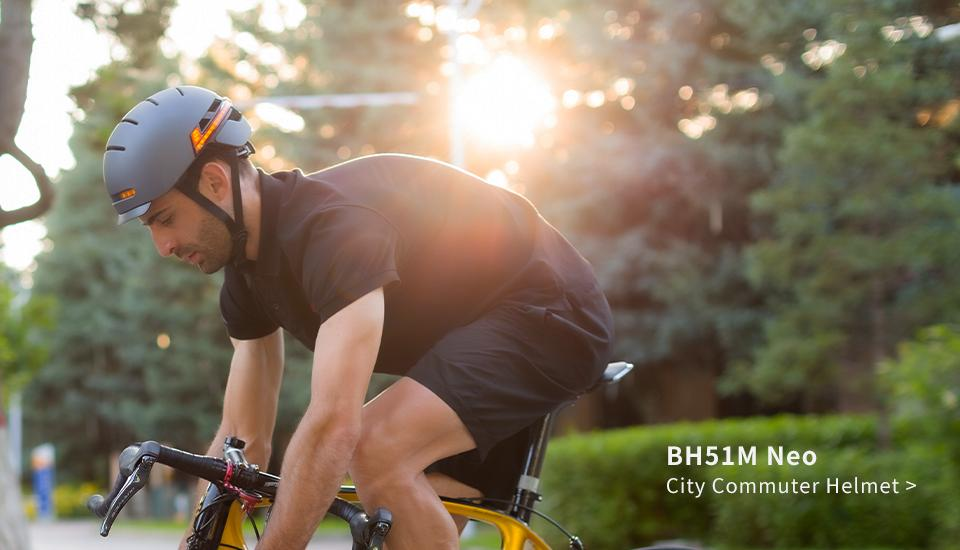helmet: (85, 62, 237, 252)
